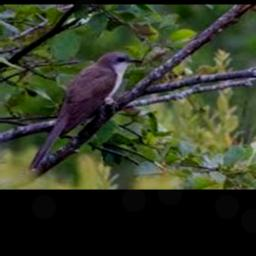Cuckoo: (28, 51, 141, 170)
